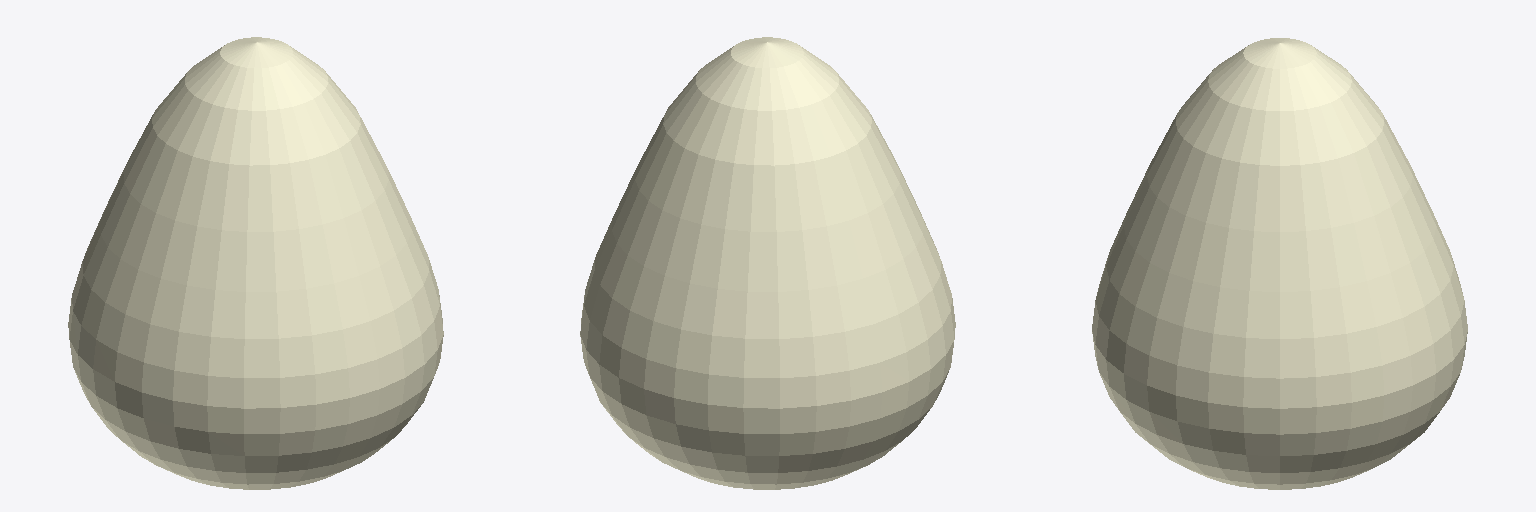
3 renders of one model, left to right at view 1: azimuth 30°, elevation 25°; view 2: azimuth 150°, elevation 25°; view 3: azimuth 270°, elevation 25°, orthographic.
Visible parts, largest first — view 1: Sphere.001; view 2: Sphere.001; view 3: Sphere.001.
Boxes of the visible parts, <box> form: Sphere.001: <box>68,37,443,489</box>; Sphere.001: <box>580,37,955,489</box>; Sphere.001: <box>1092,38,1467,489</box>.
Size of the model in its own units: 0.1178 by 0.1474 by 0.1178.
Materials: 1 (1 with a texture image).